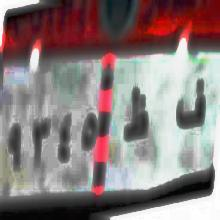3: (31, 116, 50, 172)
4: (58, 109, 73, 168)
5: (79, 112, 98, 152)
9: (8, 118, 24, 179)
Thaa: (123, 89, 151, 145)
faa: (174, 71, 208, 133)
